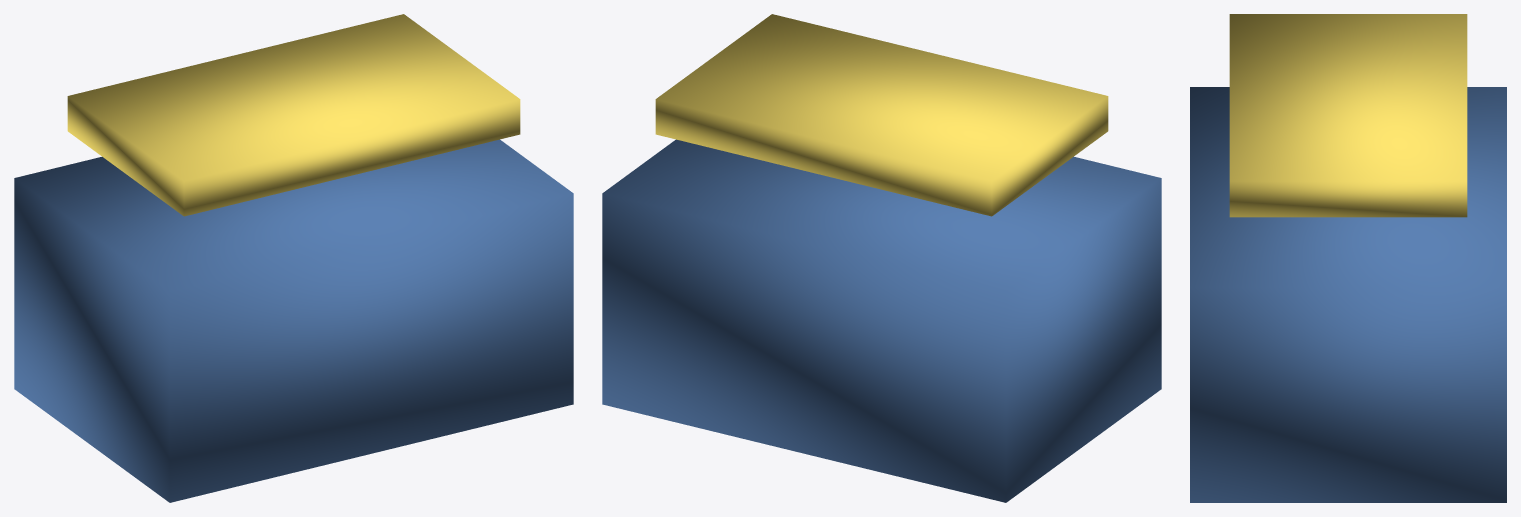
File: ice_rain_protection_placeholder.glb
3 renders of one model, left to right at view 1: azimuth 30°, elevation 25°; view 2: azimuth 150°, elevation 25°; view 3: azimuth 270°, elevation 25°, orthographic.
Visible parts, largest first — view 1: overview, ice_rain_protection_label; view 2: overview, ice_rain_protection_label; view 3: overview, ice_rain_protection_label.
Part boxes in pixels (x1,y1,x2,y2): overview: (14,139,573,502); ice_rain_protection_label: (67,14,520,216); overview: (602,139,1161,502); ice_rain_protection_label: (655,14,1108,216); overview: (1190,87,1506,502); ice_rain_protection_label: (1229,14,1467,217).
Size of the model in its own units: 60 by 42.5 by 40.
